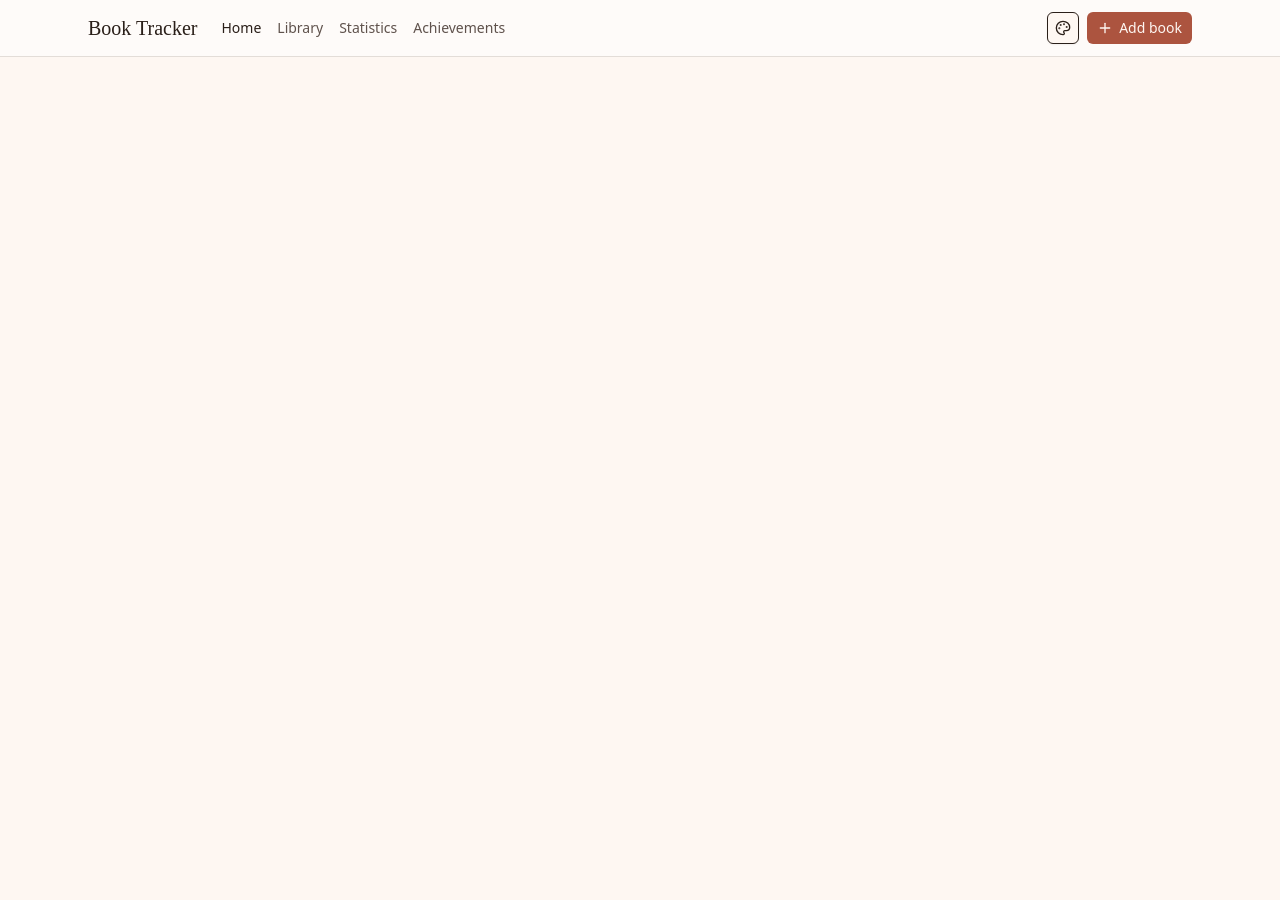
Test: AppHeader › opens the add-book dialog when the ready header button is clicked
Click the button with test id "header-add-book".
click(1140, 28)  # box [1087, 12, 1192, 44]
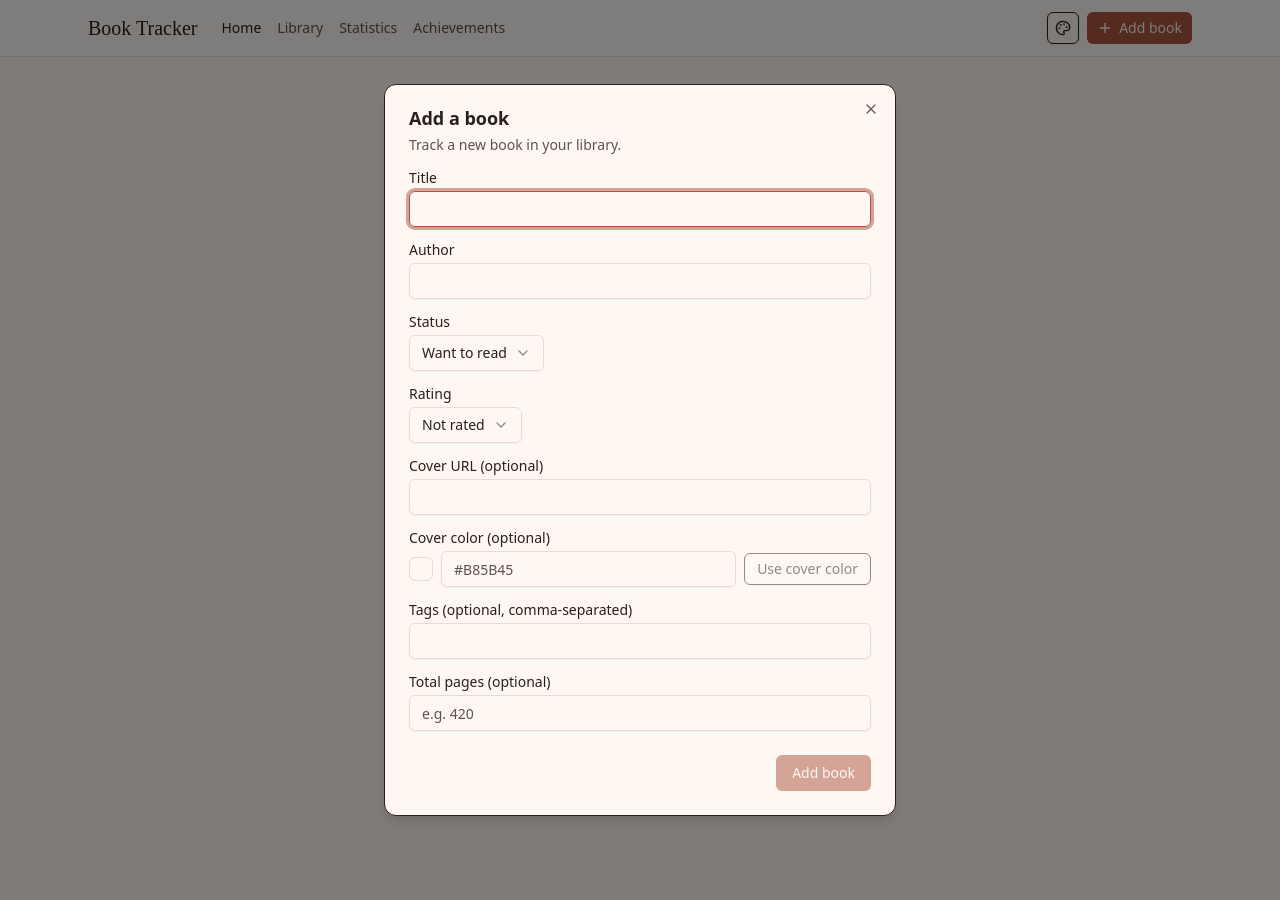
Now the heading "Add a book" is shown, box [409, 106, 509, 130]
